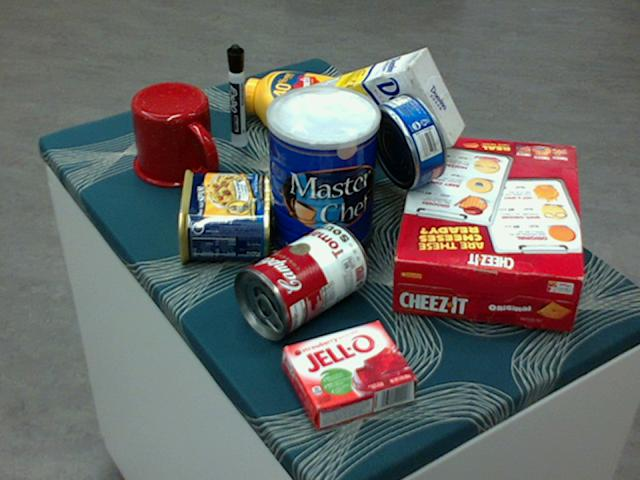cracker_box: (389, 133, 582, 329)
gelatin_box: (282, 320, 417, 428)
large_marker: (225, 43, 248, 147)
master_chef_can: (265, 86, 378, 269)
mug: (131, 82, 219, 188)
mustard_bottle: (228, 70, 396, 146)
potted_meat_can: (177, 170, 269, 263)
sugar_box: (272, 48, 463, 177)
tomato_soup_can: (231, 223, 367, 338)
tuna_fish_can: (368, 91, 447, 187)
